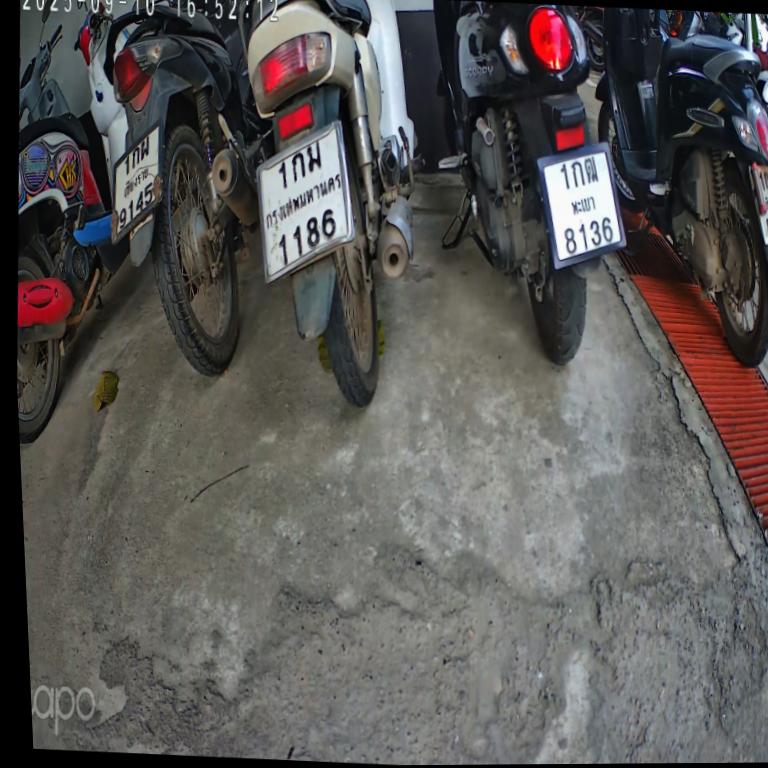license plate: (241, 106, 369, 304), (520, 120, 637, 288), (95, 107, 178, 249), (733, 147, 768, 264)
